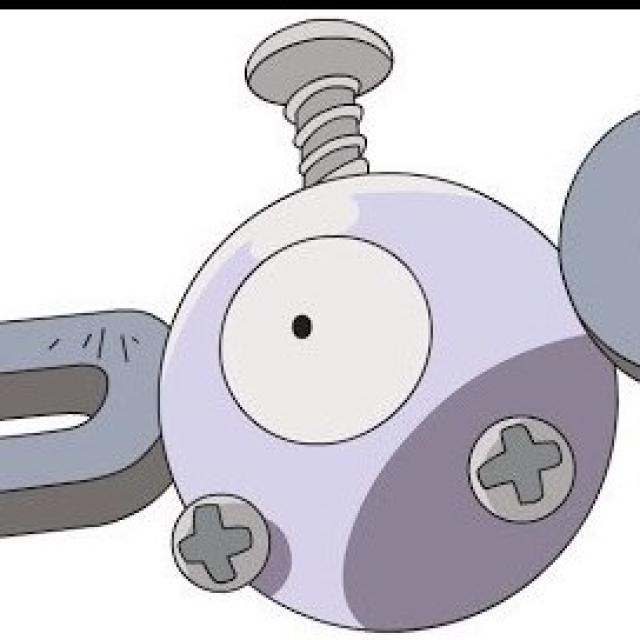Magnemite: (0, 76, 640, 636)
